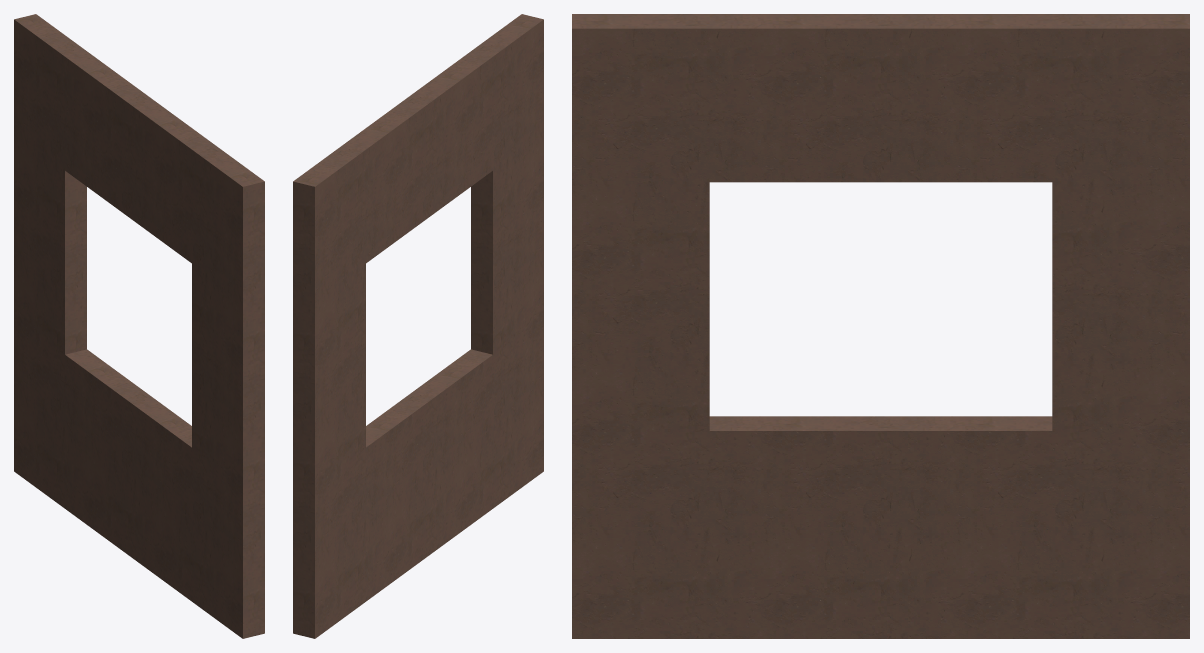
File: soupwindwall006.obj
The picture shows the model from 3 angles, left to right: view 1: azimuth 30°, elevation 25°; view 2: azimuth 150°, elevation 25°; view 3: azimuth 270°, elevation 25°; orthographic projection. The views are drawn at different scales.
Parts seen in each view (by area): view 1: soupwindwall006_high_1; view 2: soupwindwall006_high_1; view 3: soupwindwall006_high_1.
Boxes of the visible parts, x1,y1,x2,y2 form: soupwindwall006_high_1: [14, 14, 264, 638]; soupwindwall006_high_1: [293, 14, 543, 638]; soupwindwall006_high_1: [572, 14, 1189, 638].
Bounding box in the file's own units: 0.1504 × 2.95 × 2.7.
